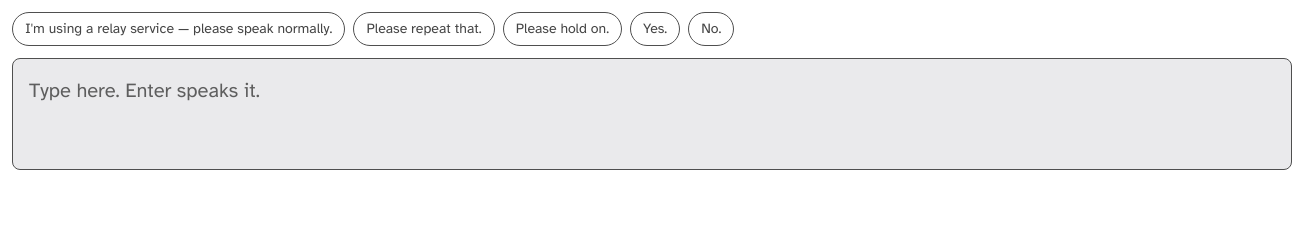
Test: Composer typo correction › says on screen what it changed, so nothing is altered invisibly
The image size is (1304, 225).
Type "dont " into the text box named "type what you want said".
click(652, 114); type("dont ")  # box [12,58,1292,170]
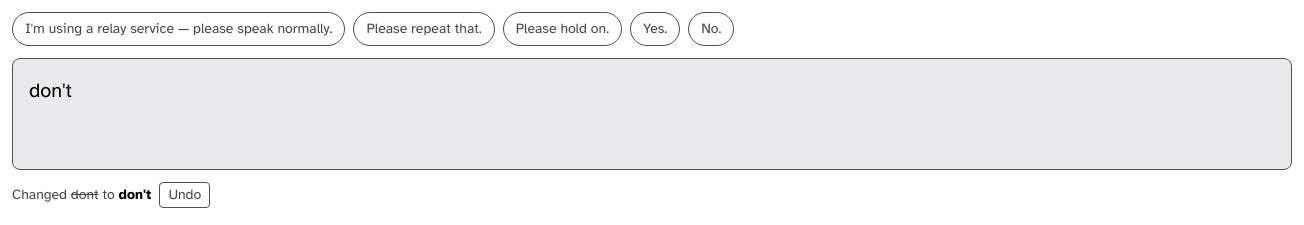
Expected: the text "Changed dont to don't" is shown, [12,185,151,205]
